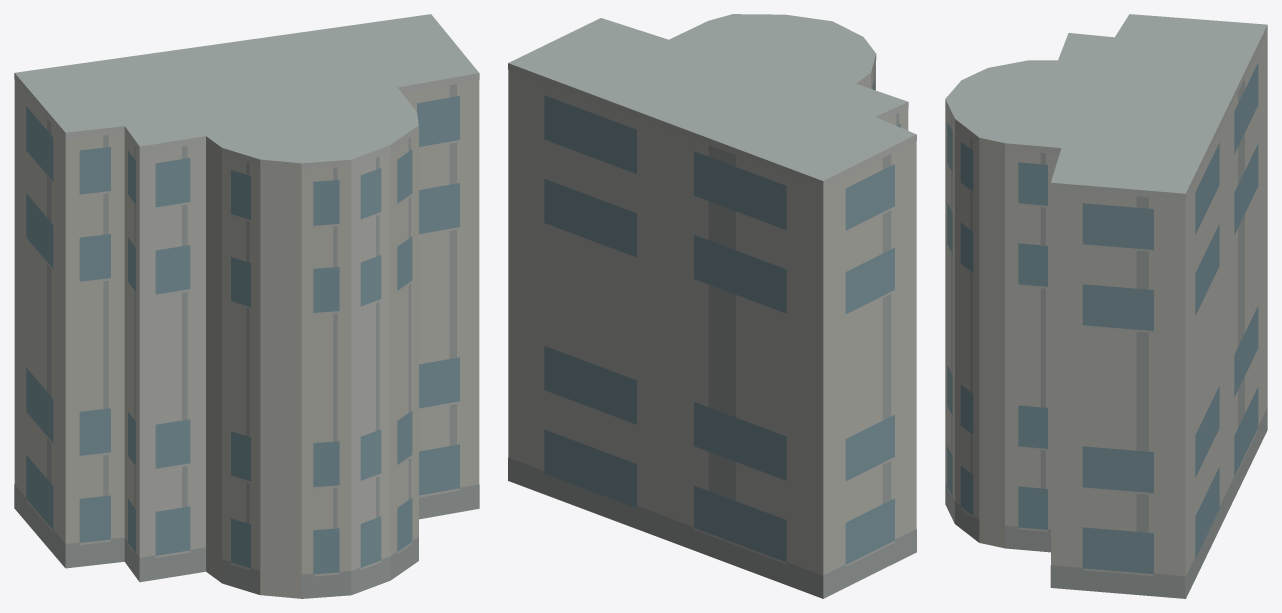
File: survey-upis-32634827.glb
3 renders of one model, left to right at view 1: azimuth 30°, elevation 25°; view 2: azimuth 150°, elevation 25°; view 3: azimuth 270°, elevation 25°, orthographic. The views are drawn at different scales.
Parts seen in each view (by area): view 1: survey-upis-32634827.tmp; view 2: survey-upis-32634827.tmp; view 3: survey-upis-32634827.tmp.
Part boxes in pixels (x1,y1,x2,y2): survey-upis-32634827.tmp: [14, 14, 479, 598]; survey-upis-32634827.tmp: [508, 14, 916, 598]; survey-upis-32634827.tmp: [945, 14, 1267, 598].
Bounding box in the file's own units: 14.51 × 15.25 × 11.01.
